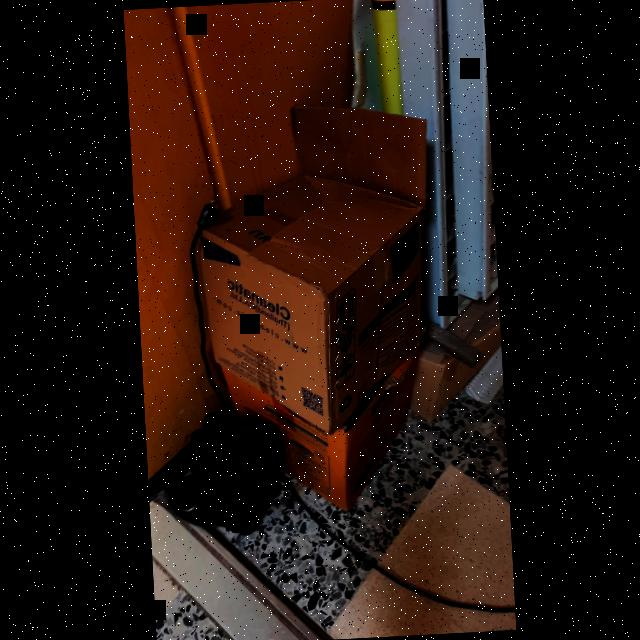cardboard_box: (185, 96, 443, 438), (216, 350, 427, 514)
